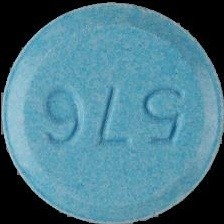55154-8284: (0, 0, 224, 224)
